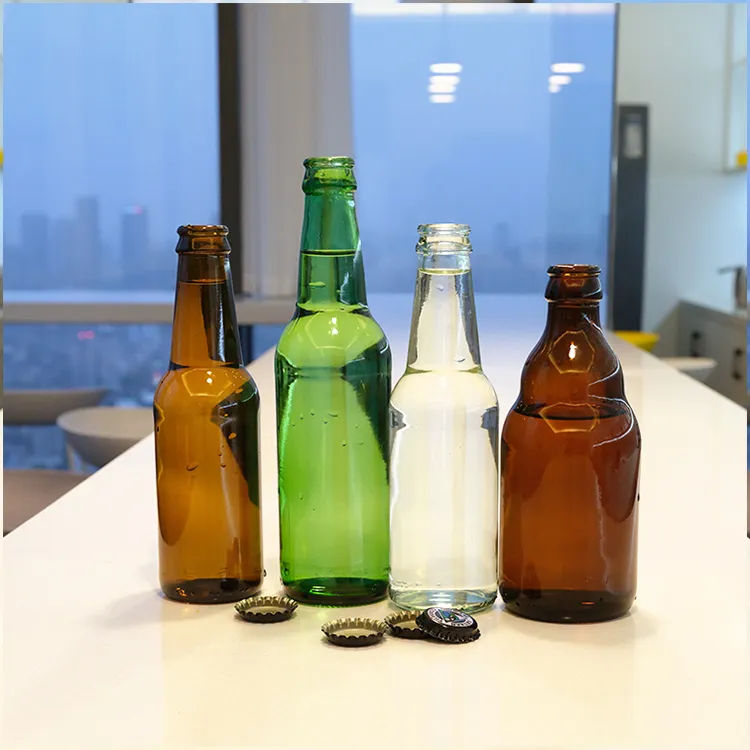glass_bottle: (500, 241, 643, 629), (275, 152, 389, 606), (391, 192, 501, 620), (148, 212, 267, 607)
